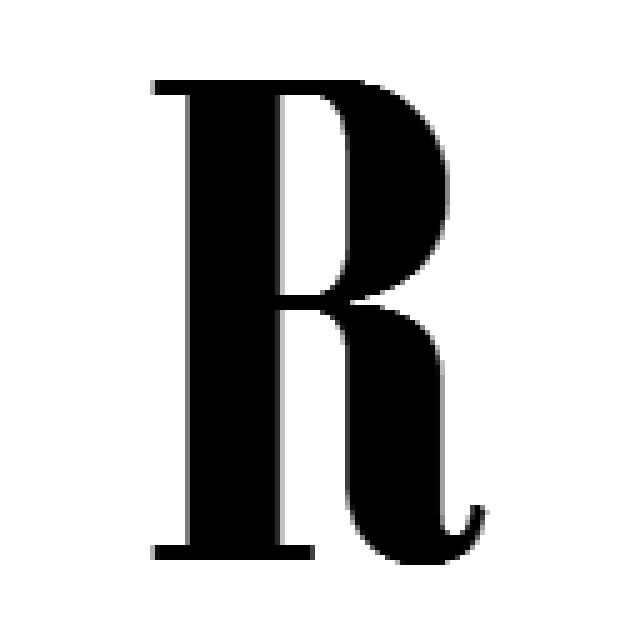R: (140, 65, 490, 570)
